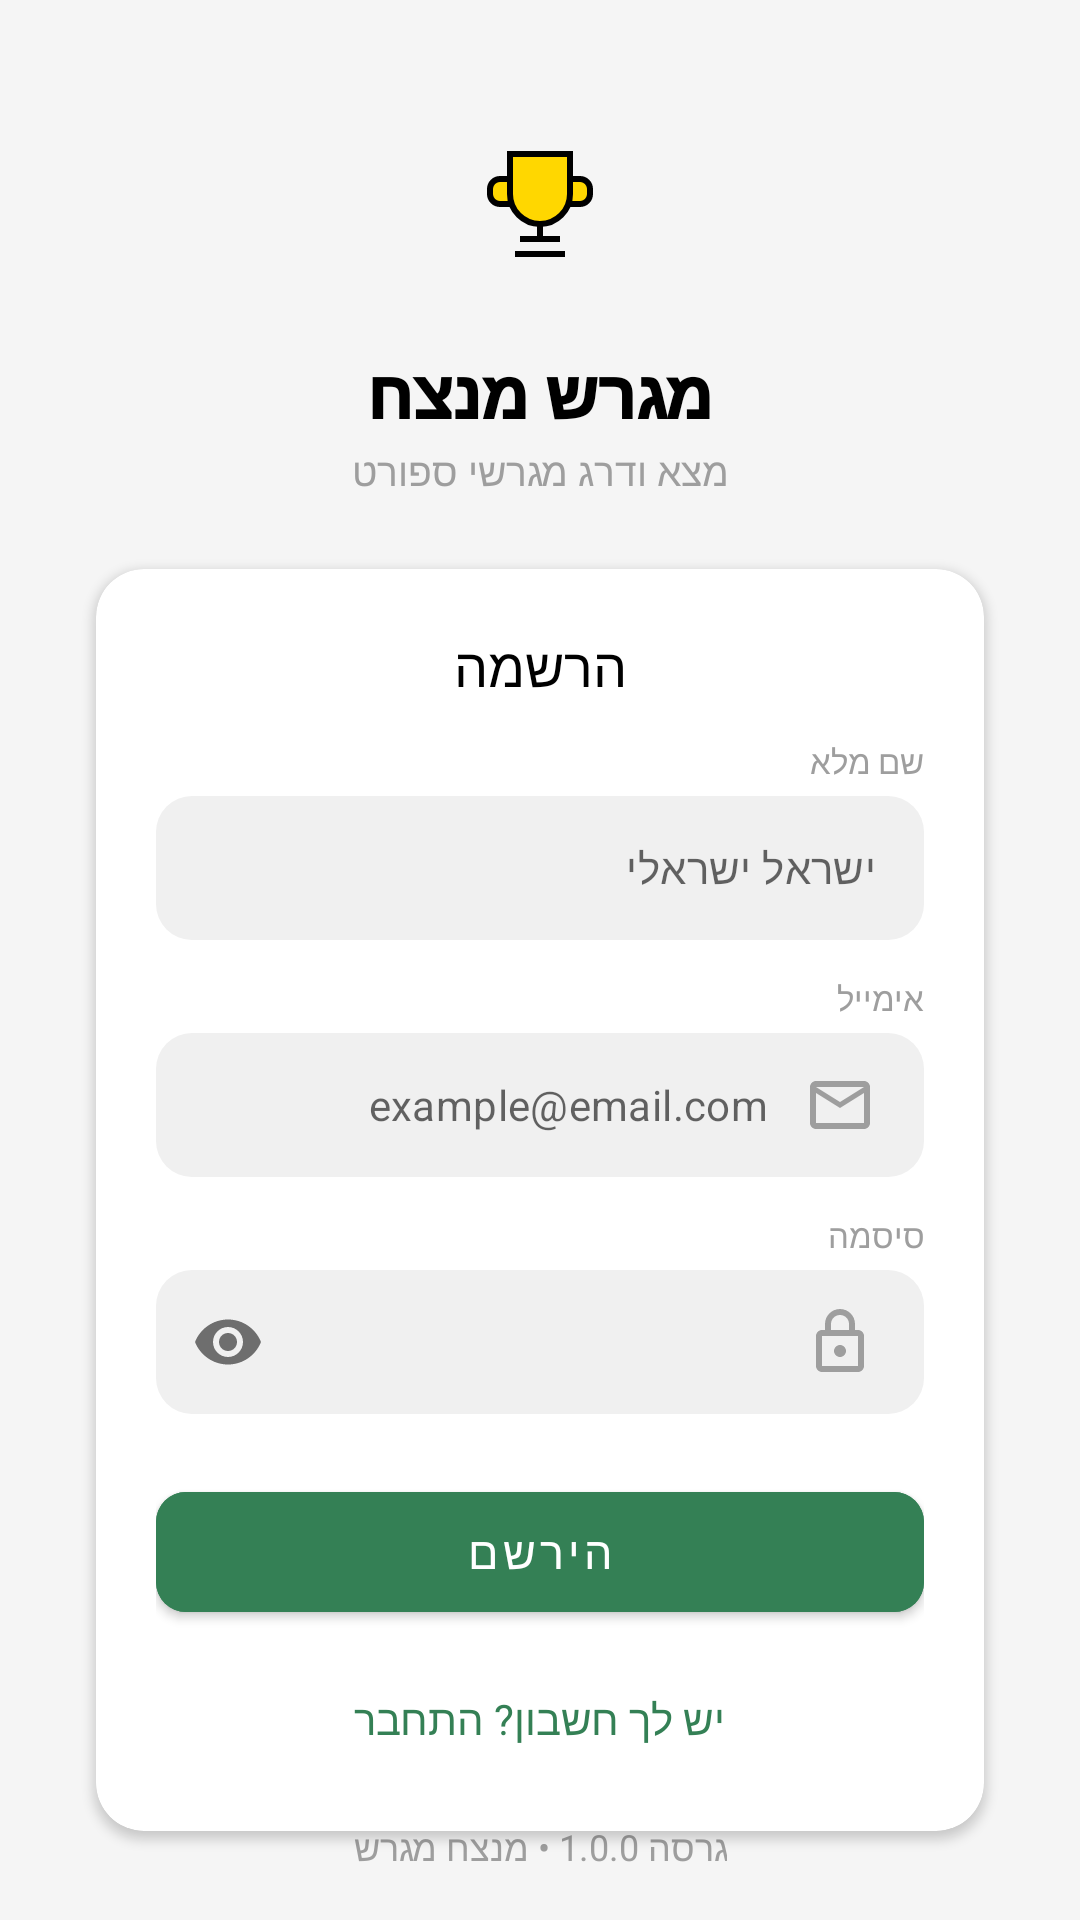

Where icons sit on this 1080px×1920px app screen, as bbox=[x1, y1, x2, y2]:
trophy: bbox=[487, 151, 593, 257]
